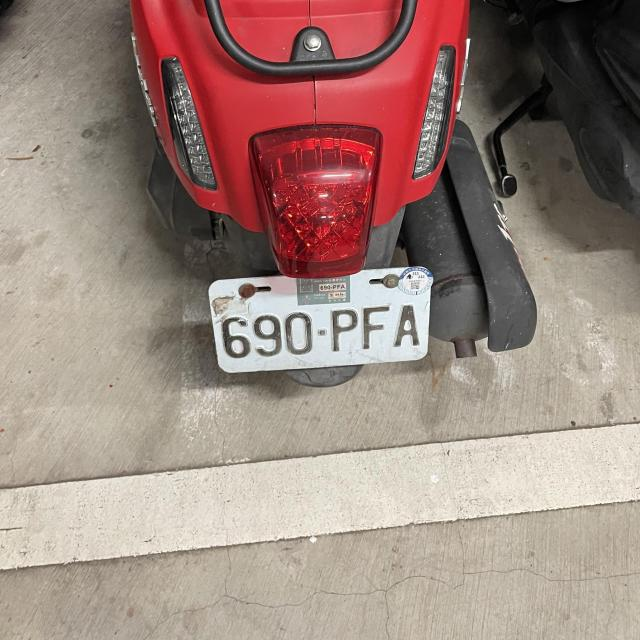W: (206, 266, 435, 376)
